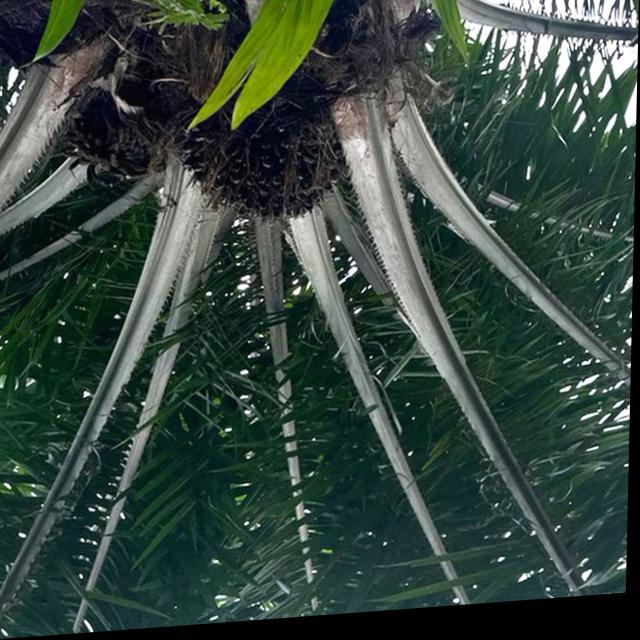almost: (164, 89, 358, 262)
